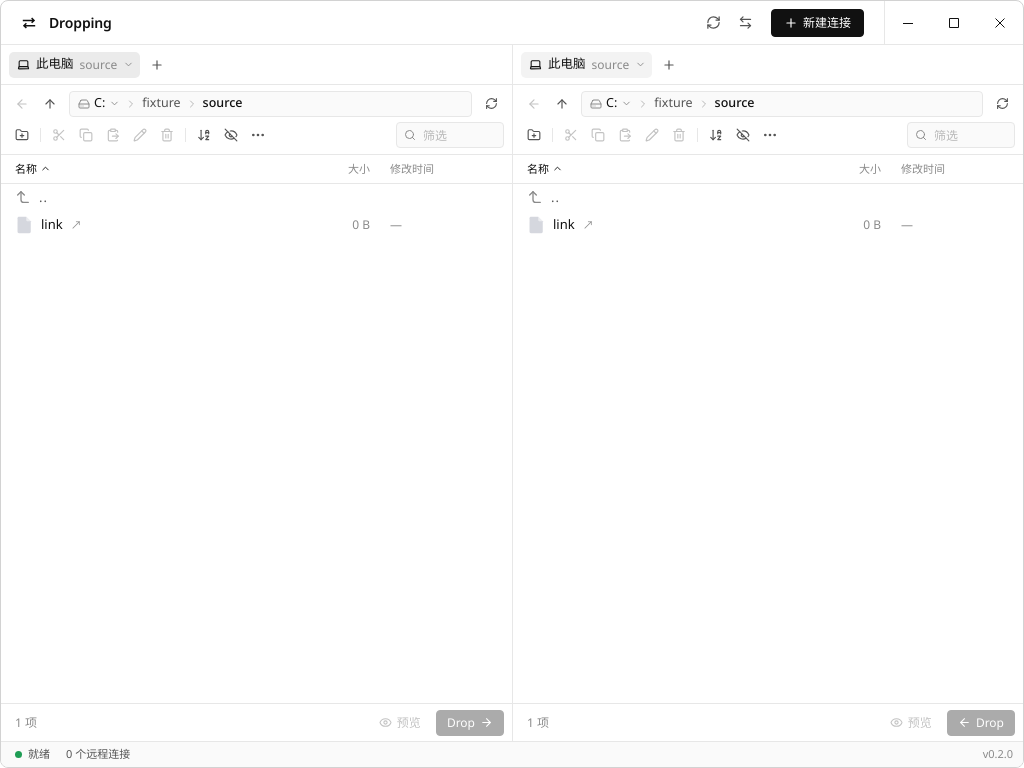
workspace context menus › shows symlink properties while disabling file mutations
Step 1. Right-click the 1st text "link" → (52, 225), box [41,215,63,235]
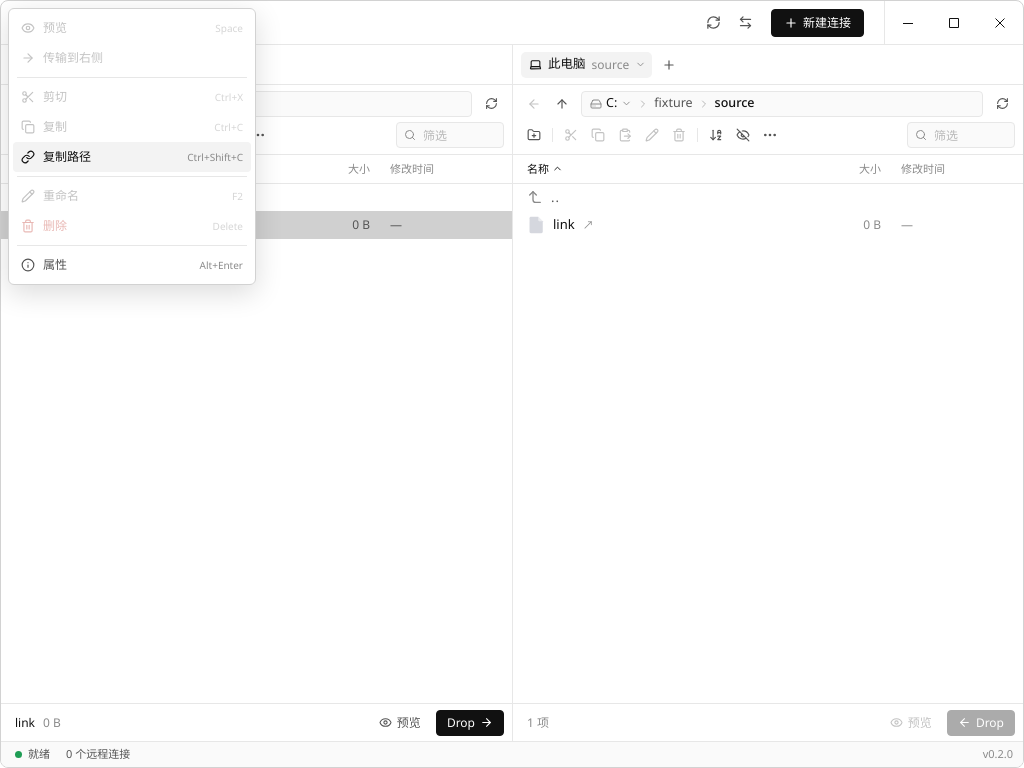
Expected: the menu item "预览 Space" is disabled, [13,13,251,43]
Expected: the menu item "剪切 Ctrl+X" is disabled, [13,82,251,112]
Expected: the menu item "复制 Ctrl+C" is disabled, [13,112,251,142]
Step 2. Click the menu item "属性 Alt+Enter" → (132, 265), box [13,250,251,280]
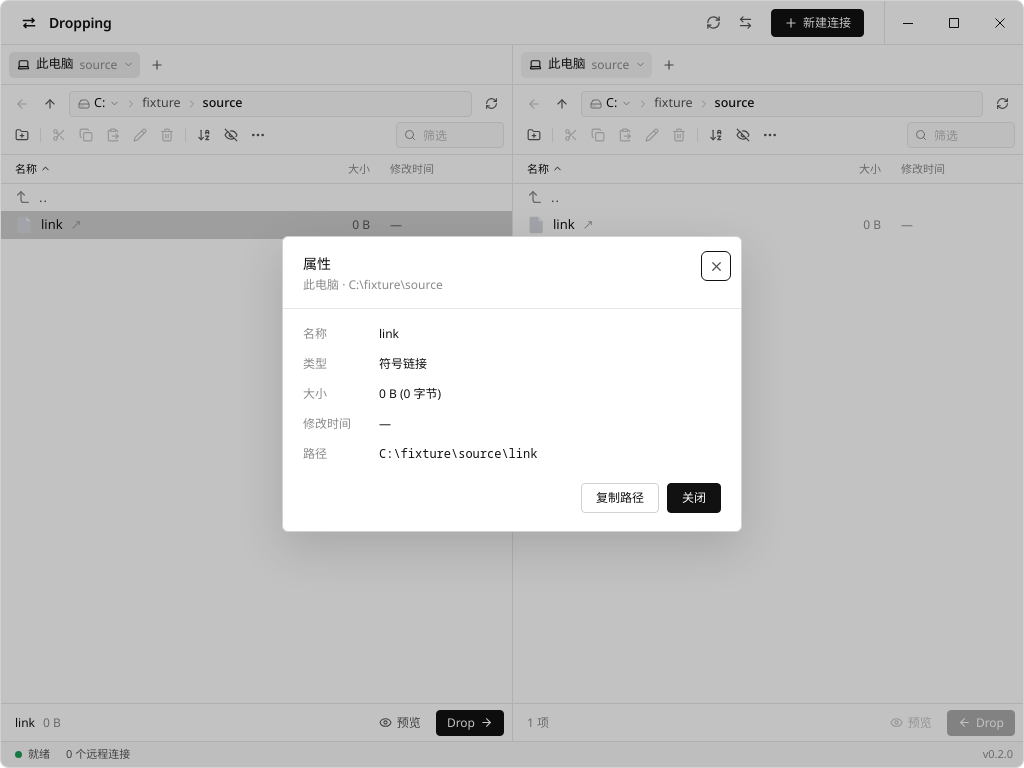
Expected: the dialog "属性" is shown, [282,236,742,532]
Expected: the text "符号链接" is shown, [379,355,427,372]
